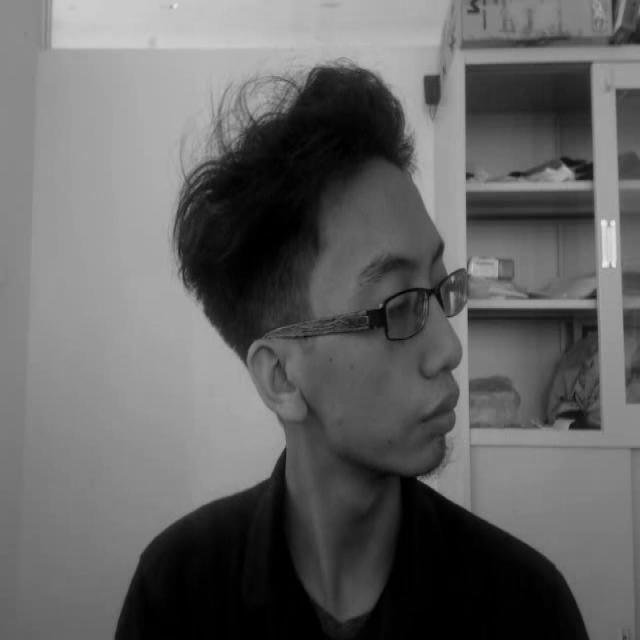real: (162, 48, 488, 483)
